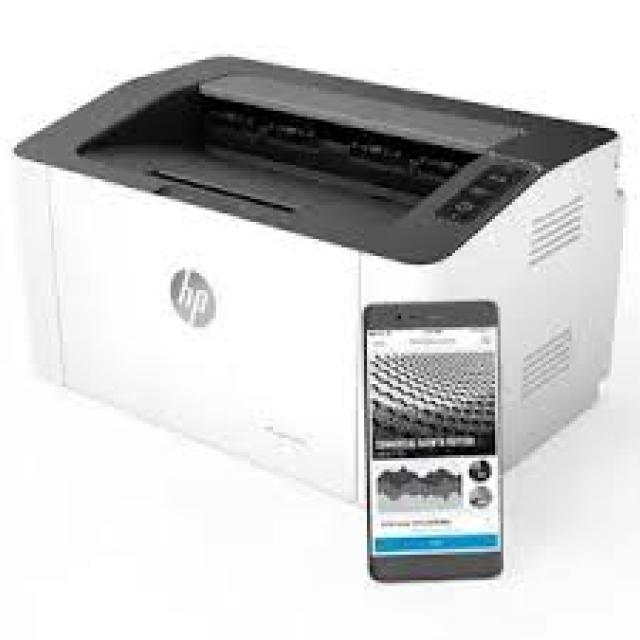printer: (11, 51, 626, 578)
